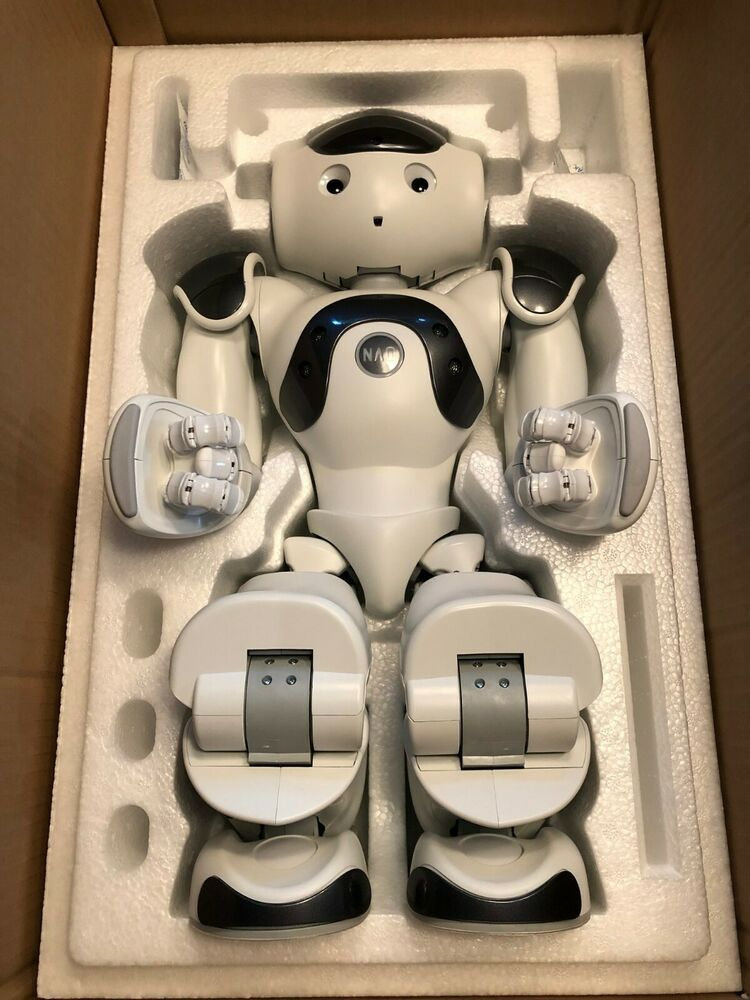nao: (95, 76, 689, 995)
